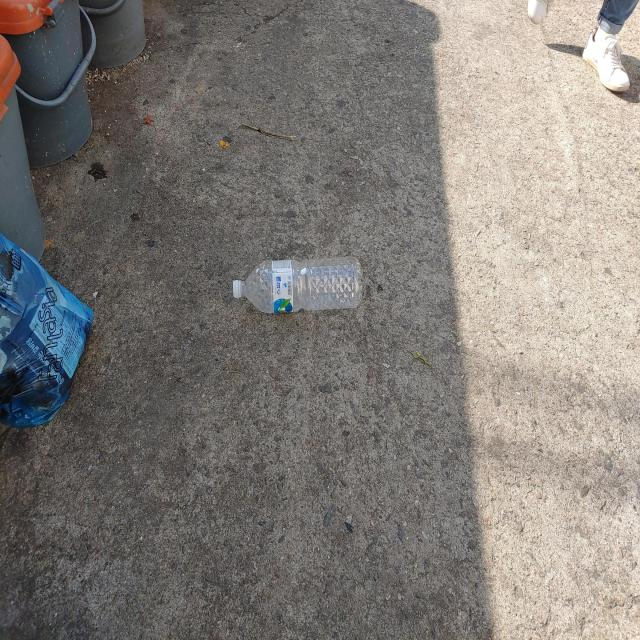plastic: (233, 256, 362, 313)
